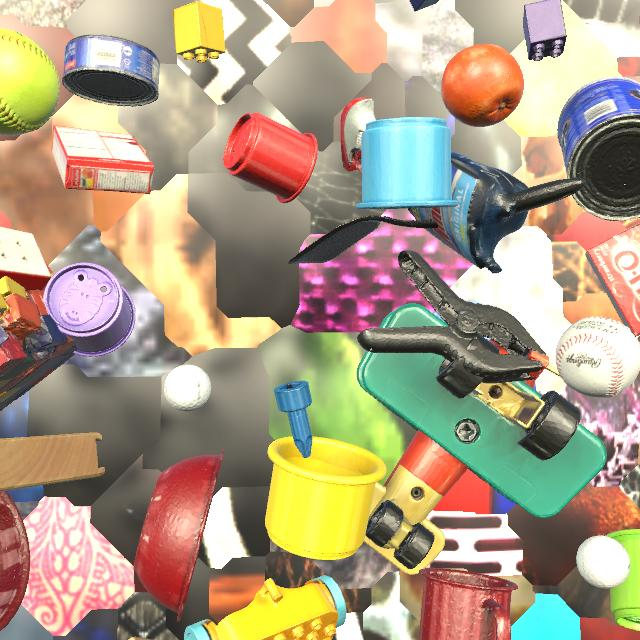ycb_002_master_chef_can: (557, 76, 640, 221)
ycb_007_tuna_fish_can: (62, 34, 160, 107)
ycb_009_gelatin_box: (52, 125, 154, 194), (585, 223, 640, 337)
ycb_017_orange: (441, 44, 524, 127)
